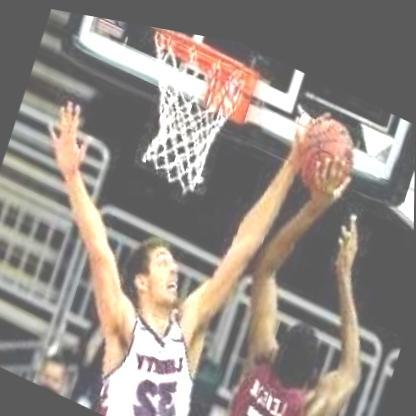basketball: (291, 92, 365, 190)
